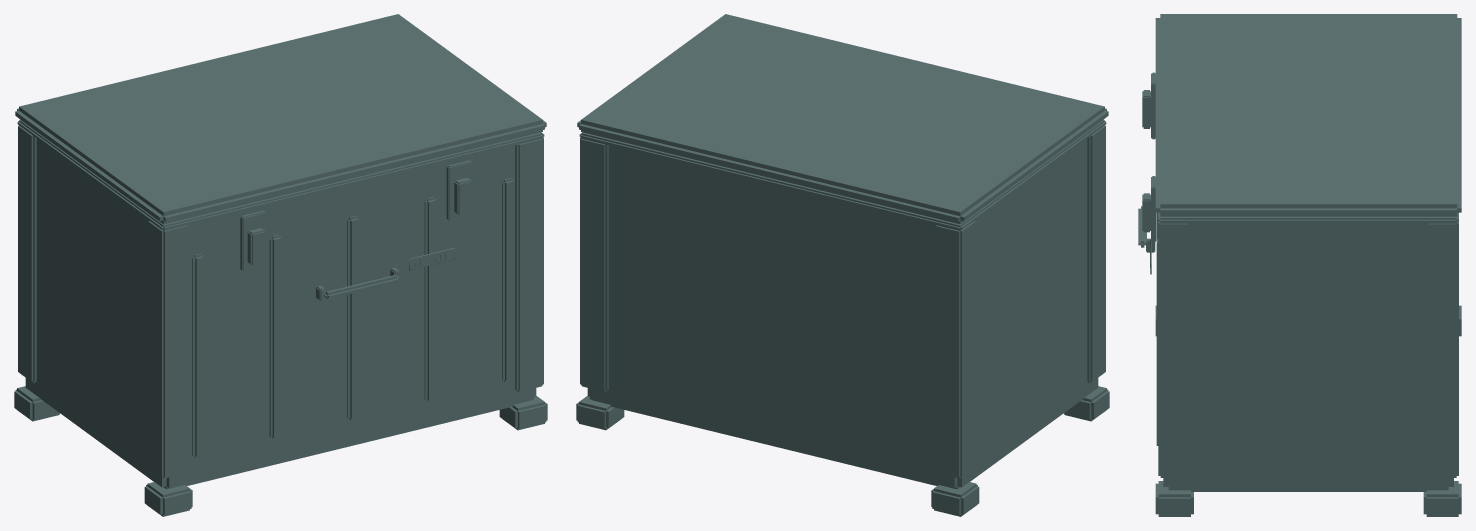
The model's file is OBJ-030_ContenedorTecnico.fbx.
The picture shows the model from 3 angles, left to right: view 1: azimuth 30°, elevation 25°; view 2: azimuth 150°, elevation 25°; view 3: azimuth 270°, elevation 25°; orthographic projection. The views are drawn at different scales.
Parts seen in each view (by area): view 1: GEO-OBJ-030_ContenedorTecnico.005; view 2: GEO-OBJ-030_ContenedorTecnico.005; view 3: GEO-OBJ-030_ContenedorTecnico.005.
Boxes of the visible parts, bbox=[...] form: GEO-OBJ-030_ContenedorTecnico.005: bbox=[14, 14, 547, 516]; GEO-OBJ-030_ContenedorTecnico.005: bbox=[576, 14, 1109, 516]; GEO-OBJ-030_ContenedorTecnico.005: bbox=[1138, 14, 1461, 516].
Size of the model in its own units: 1.2 by 0.9 by 0.8455.
